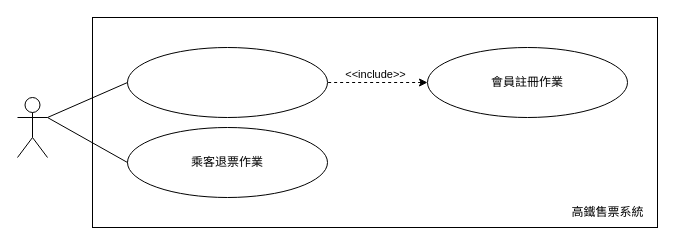
The diagram is 675 pixels wide and 245 high, and some of its shapes have lost their labels. Here are the shapes that lost their labels. From the top down, the box of each, then its label:
(126, 46, 328, 118): 乘客訂票作業
(16, 96, 48, 158): 乘客
